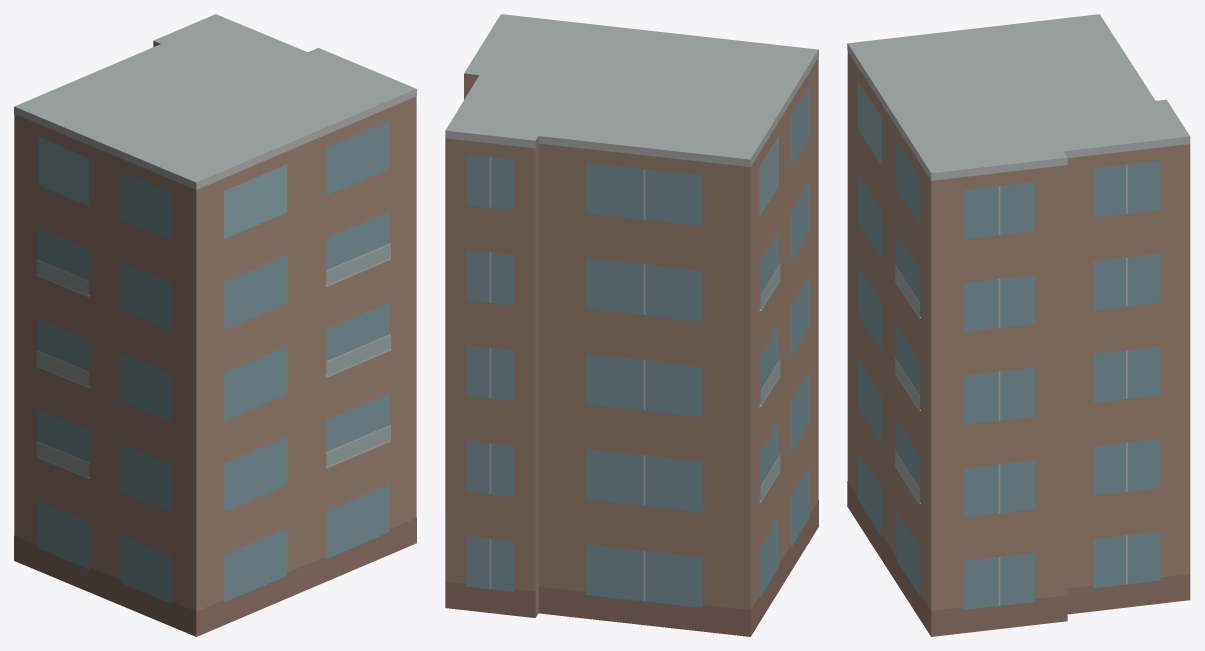
Rendered from survey-upis-32620332.glb.
3 renders of one model, left to right at view 1: azimuth 30°, elevation 25°; view 2: azimuth 150°, elevation 25°; view 3: azimuth 270°, elevation 25°, orthographic. The views are drawn at different scales.
Parts seen in each view (by area): view 1: survey-upis-32620332.tmp; view 2: survey-upis-32620332.tmp; view 3: survey-upis-32620332.tmp.
Boxes of the visible parts, x1,y1,x2,y2 form: survey-upis-32620332.tmp: (14, 14, 416, 636); survey-upis-32620332.tmp: (445, 14, 818, 636); survey-upis-32620332.tmp: (847, 14, 1190, 636).
Size of the model in its own units: 11.26 by 15.25 by 10.23.
